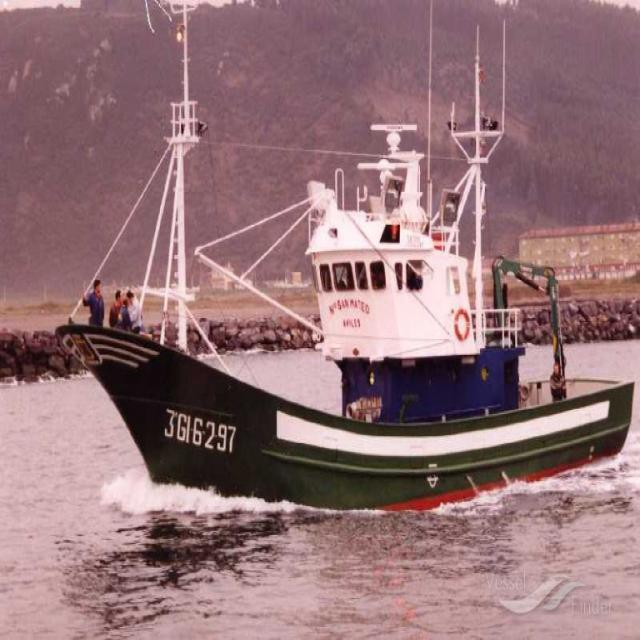Fishing Vessel: (53, 118, 631, 500)
